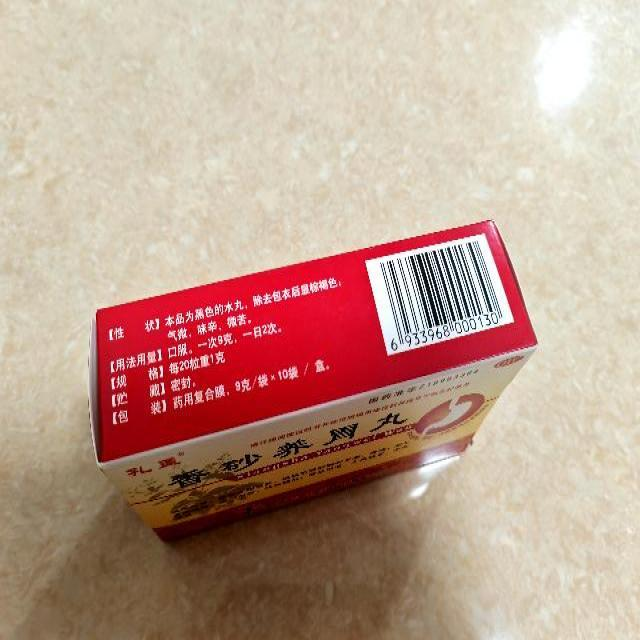box: (88, 218, 538, 546)
